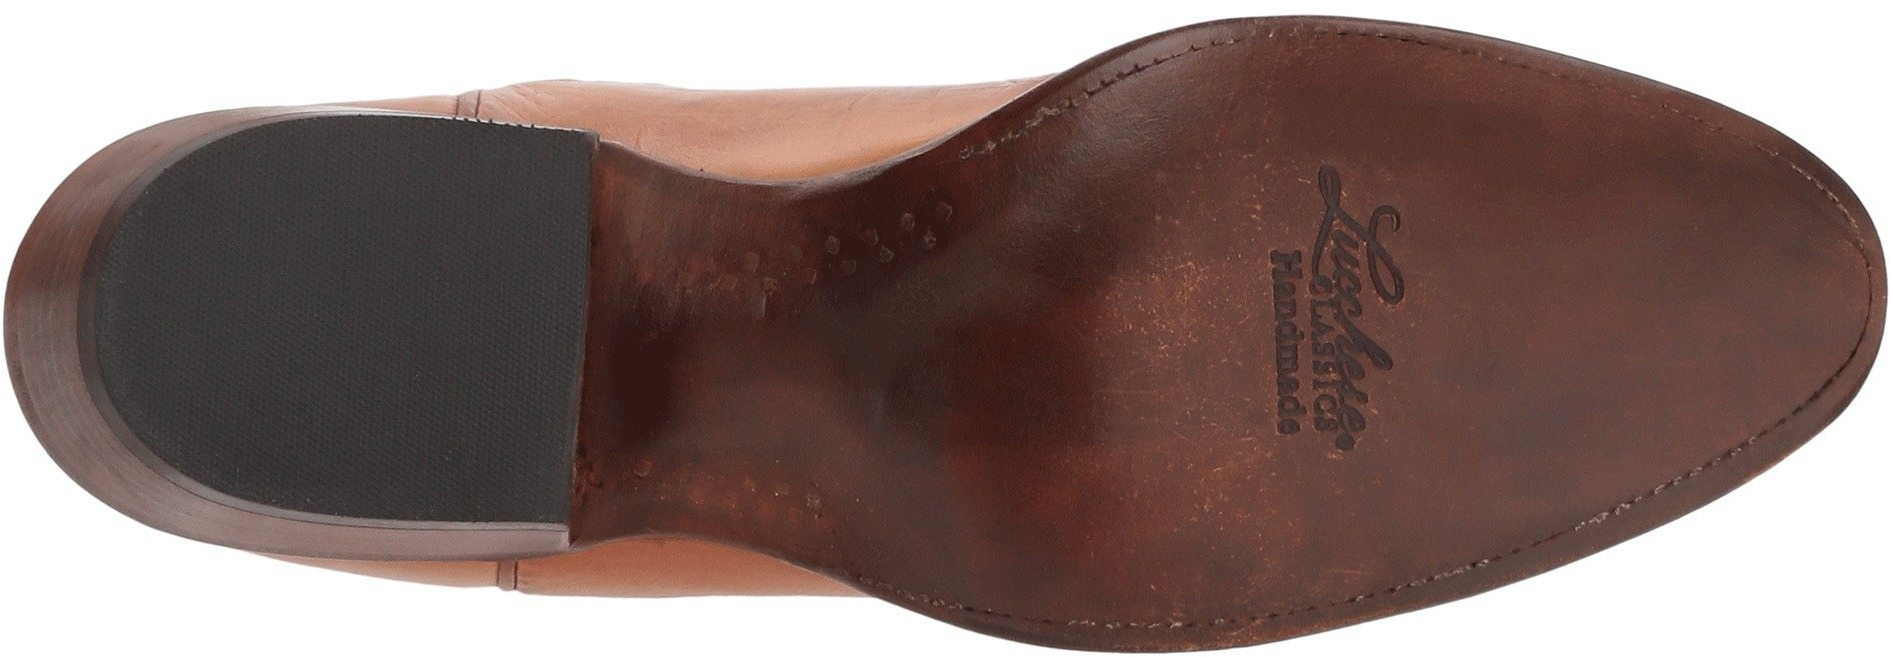exclude: (622, 184, 990, 581), (578, 98, 693, 583)
other: (1446, 136, 1756, 463), (234, 180, 540, 483), (1013, 168, 1210, 371), (1005, 439, 1200, 622)
text: (1210, 154, 1489, 467)
